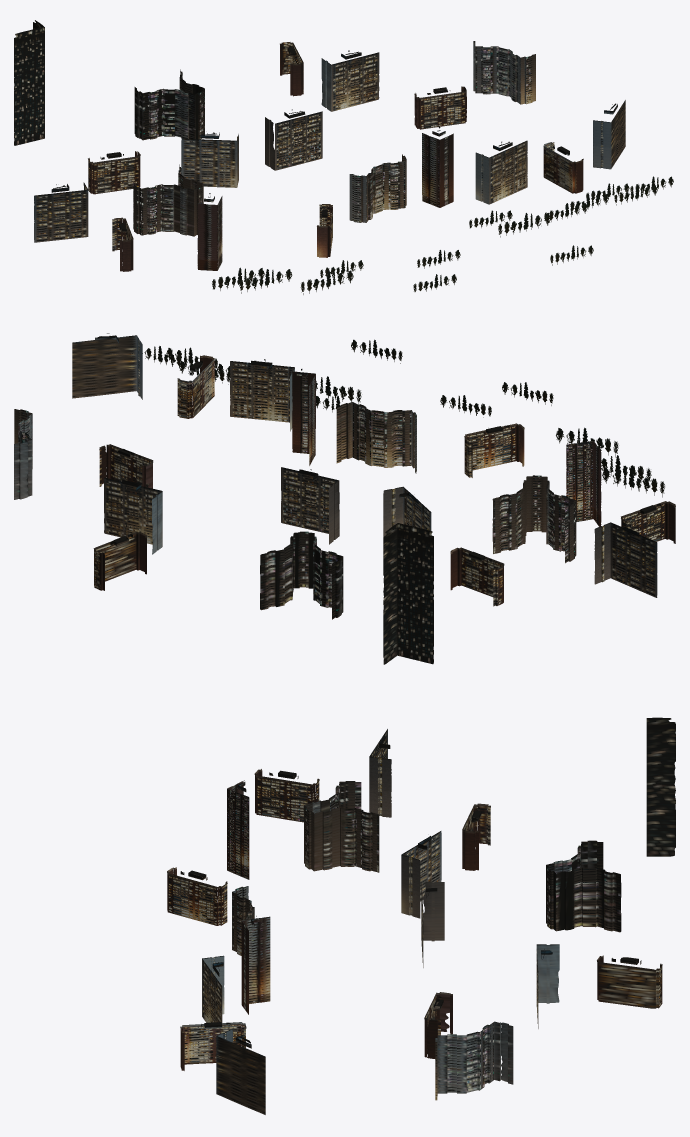
Rendered from towersandtrees.dae.
The picture shows the model from 3 angles, top to bottom: view 1: azimuth 30°, elevation 25°; view 2: azimuth 150°, elevation 25°; view 3: azimuth 270°, elevation 25°; orthographic projection. The views are drawn at different scales.
Parts seen in each view (by area): view 1: b2, b1, b3, tree_alphas; view 2: b2, b1, b3, tree_alphas; view 3: b2, b1, b3.
Boxes of the visible parts, x1=… form: b2: x1=14, y1=20, x2=535, y2=242; b1: x1=112, y1=100, x2=625, y2=271; b3: x1=88, y1=42, x2=303, y2=194; tree_alphas: x1=212, y1=176, x2=673, y2=294; b2: x1=14, y1=409, x2=657, y2=664; b1: x1=72, y1=333, x2=675, y2=543; b3: x1=93, y1=531, x2=504, y2=619; tree_alphas: x1=142, y1=339, x2=664, y2=497; b2: x1=304, y1=717, x2=675, y2=1100; b1: x1=167, y1=769, x2=319, y2=1114; b3: x1=462, y1=803, x2=662, y2=1008.
Bounding box in the file's own units: 27.73 × 23.62 × 6.24.
Materials: 4 (4 with a texture image).
